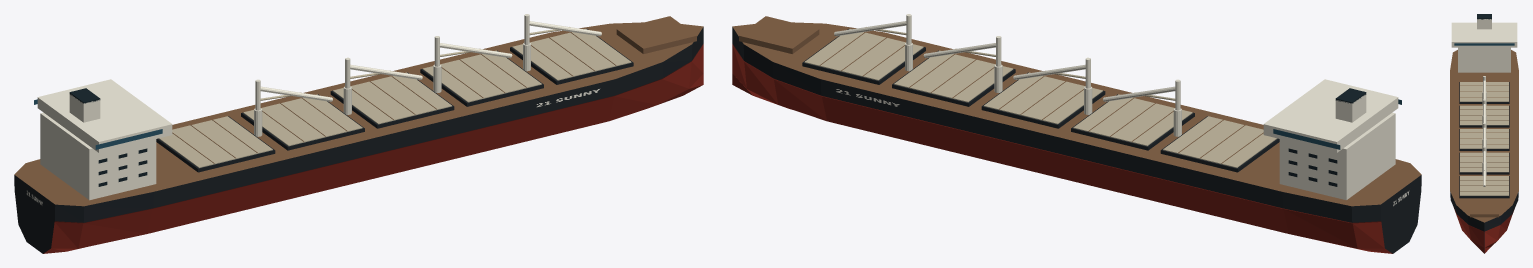
The model's file is ship.dae.
3 views of the same model, side by side, from view 1: azimuth 30°, elevation 25°; view 2: azimuth 150°, elevation 25°; view 3: azimuth 270°, elevation 25° (orthographic). The views are drawn at different scales.
Parts seen in each view (by area): view 1: Ship; view 2: Ship; view 3: Ship.
Boxes of the visible parts, box(x1,y1,x2,y2) form: Ship: box(14, 14, 703, 253); Ship: box(732, 14, 1421, 253); Ship: box(1450, 14, 1518, 253).
Bounding box in the file's own units: 180 × 29.8 × 36.11.
Materials: 1 (1 with a texture image).
